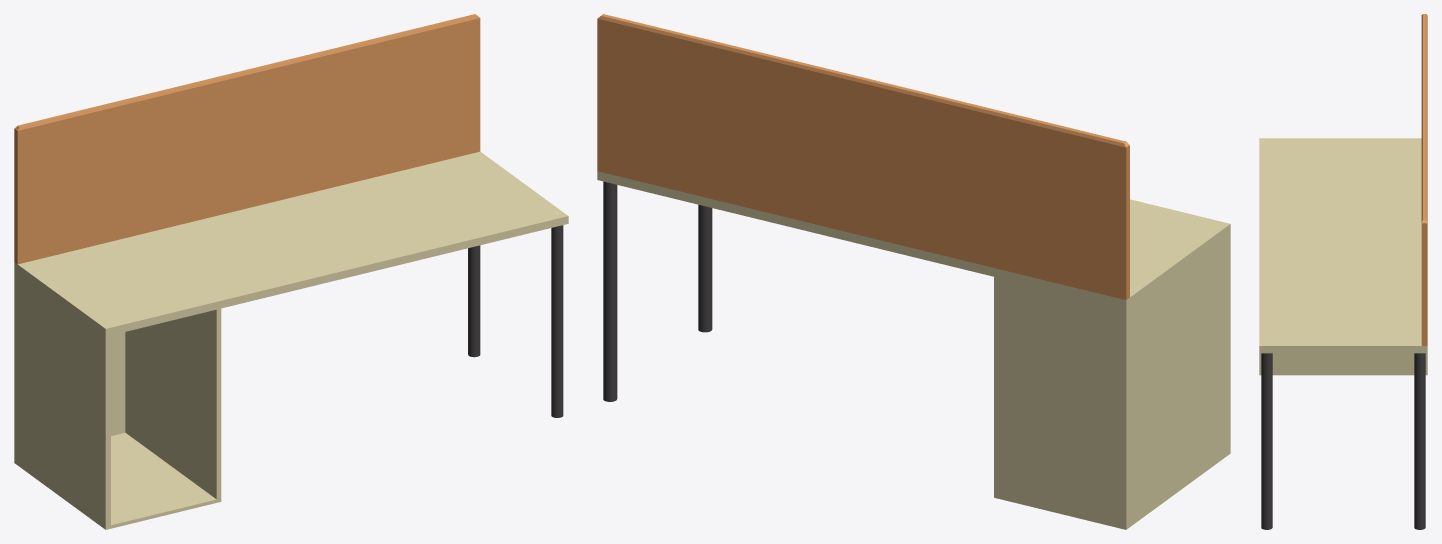
The model's file is DeskAlt.fbx.
3 views of the same model, side by side, from view 1: azimuth 30°, elevation 25°; view 2: azimuth 150°, elevation 25°; view 3: azimuth 270°, elevation 25° (orthographic). The views are drawn at different scales.
Parts seen in each view (by area): view 1: Cube, Cube.002, Cube.001; view 2: Cube.002, Cube, Cube.001; view 3: Cube, Cube.001, Cube.002.
Boxes of the visible parts, x1=… form: Cube: x1=14, y1=151, x2=568, y2=529; Cube.002: x1=14, y1=14, x2=480, y2=264; Cube.001: x1=468, y1=225, x2=563, y2=417; Cube.002: x1=597, y1=14, x2=1129, y2=299; Cube: x1=597, y1=171, x2=1230, y2=529; Cube.001: x1=603, y1=181, x2=712, y2=401; Cube: x1=1259, y1=138, x2=1427, y2=375; Cube.001: x1=1261, y1=353, x2=1425, y2=529; Cube.002: x1=1421, y1=14, x2=1427, y2=345.
Bounding box in the file's own units: 801 × 558 × 274.
